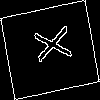X: (25, 24, 72, 67)
